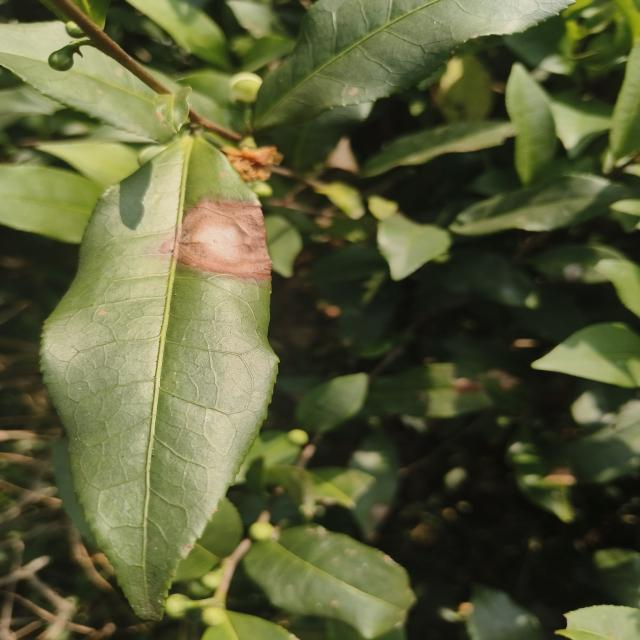Leaf: (41, 137, 278, 619), (254, 0, 569, 129), (0, 22, 172, 142), (244, 525, 414, 639), (450, 175, 627, 235), (365, 360, 523, 418), (361, 121, 514, 177), (0, 165, 103, 243), (126, 0, 230, 70), (531, 322, 640, 388), (266, 104, 372, 171), (506, 425, 576, 522), (505, 63, 556, 186), (173, 498, 244, 582), (442, 250, 540, 308), (348, 430, 399, 540), (377, 213, 450, 280), (36, 141, 139, 188), (53, 438, 97, 546), (296, 373, 369, 432), (549, 91, 612, 158), (466, 586, 544, 640), (609, 40, 640, 162), (436, 55, 492, 122), (529, 244, 624, 283), (555, 605, 640, 640), (311, 467, 374, 508), (596, 259, 640, 317), (264, 214, 303, 278), (241, 35, 295, 71), (154, 88, 191, 133)
